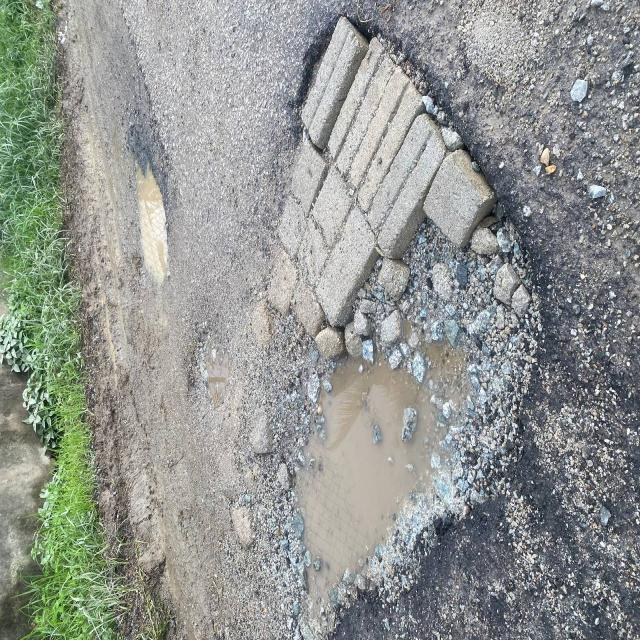Pothole: (230, 0, 568, 640), (84, 130, 204, 350)
